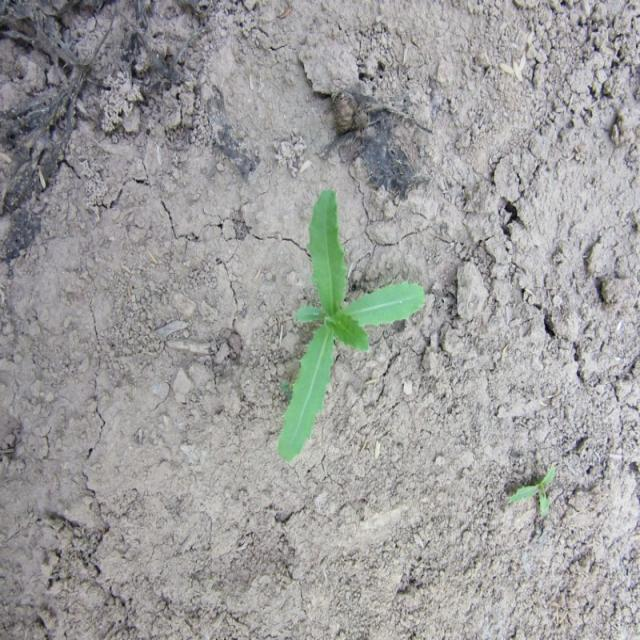field_thistle: (272, 184, 432, 486)
